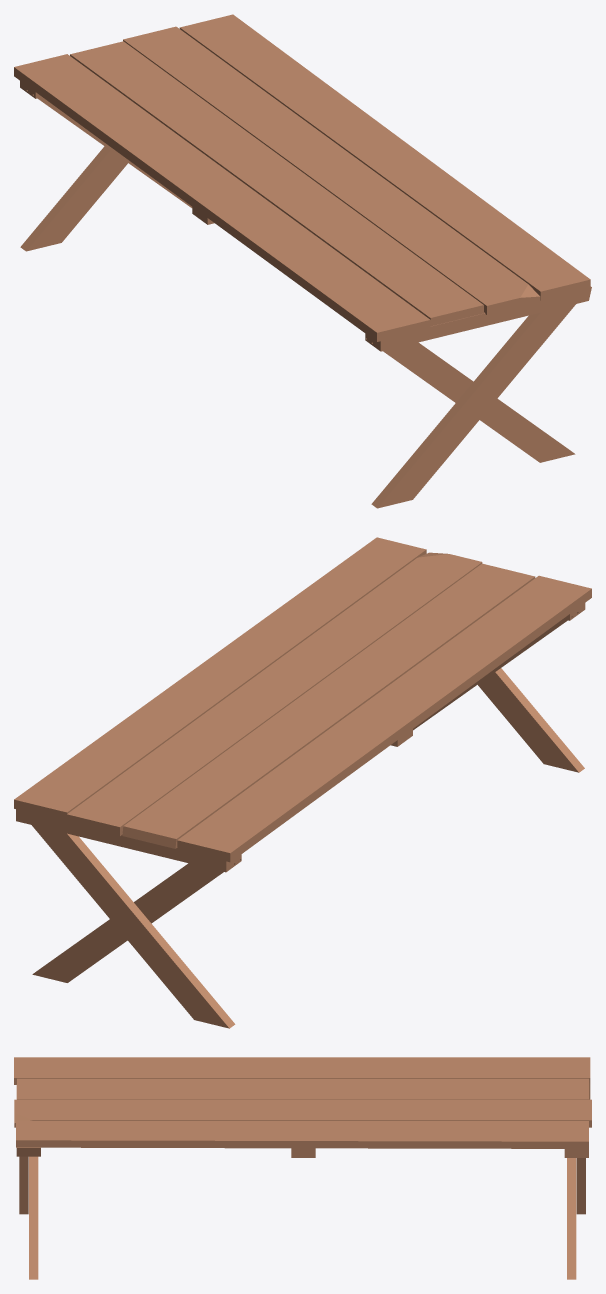
File: prop_35.FBX
The picture shows the model from 3 angles, top to bottom: view 1: azimuth 30°, elevation 25°; view 2: azimuth 150°, elevation 25°; view 3: azimuth 270°, elevation 25°; orthographic projection. The views are drawn at different scales.
Visible parts, largest first — view 1: prop_35; view 2: prop_35; view 3: prop_35.
Boxes of the visible parts, x1,y1,x2,y2 form: prop_35: (14, 14, 591, 508); prop_35: (14, 537, 591, 1028); prop_35: (14, 1057, 591, 1279).
Size of the model in its own units: 36.7 by 28.78 by 106.
